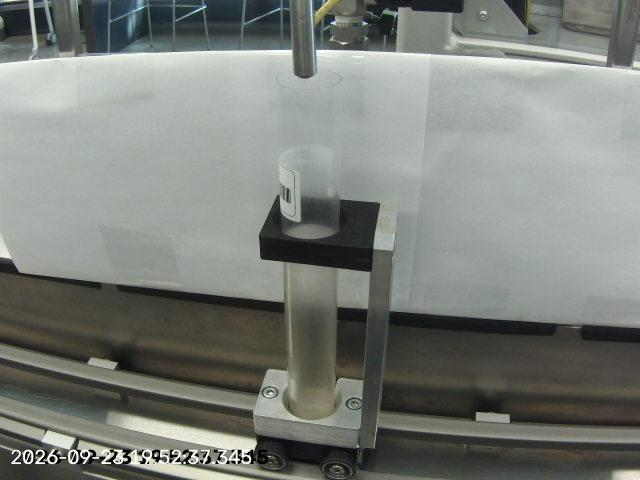vial: (257, 64, 368, 421)
